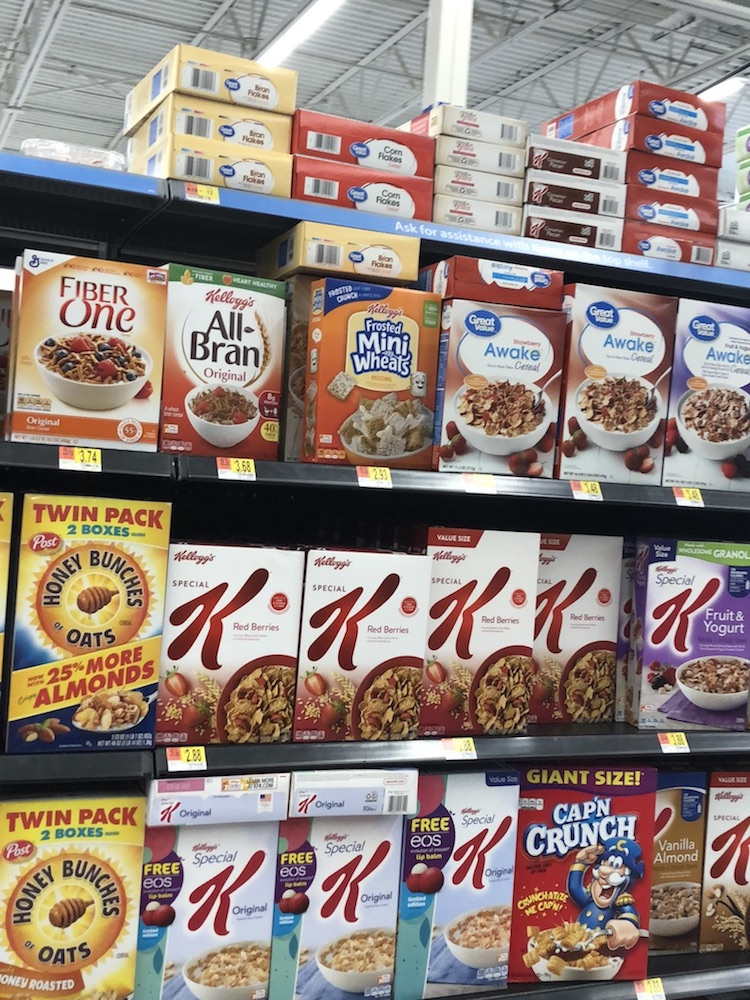Frosted Mini Original -9295869: (299, 281, 438, 462)
